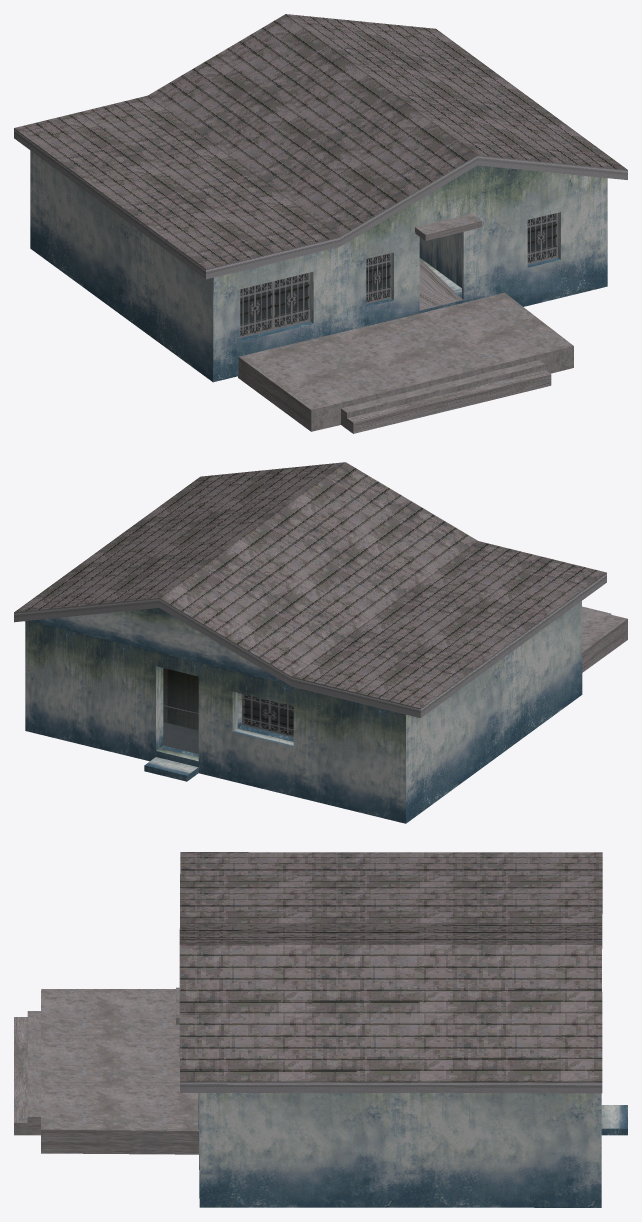
Rendered from crlsafhus_las2.obj.
3 views of the same model, one above another, from view 1: azimuth 30°, elevation 25°; view 2: azimuth 150°, elevation 25°; view 3: azimuth 270°, elevation 25° (orthographic). The views are drawn at different scales.
Parts seen in each view (by area): view 1: crlsafhus_LAS2; view 2: crlsafhus_LAS2; view 3: crlsafhus_LAS2.
Boxes of the visible parts, bbox=[...] form: crlsafhus_LAS2: bbox=[14, 14, 627, 433]; crlsafhus_LAS2: bbox=[14, 462, 627, 823]; crlsafhus_LAS2: bbox=[14, 852, 627, 1207].
Bounding box in the file's own units: 14.34 × 5.67 × 16.46.
